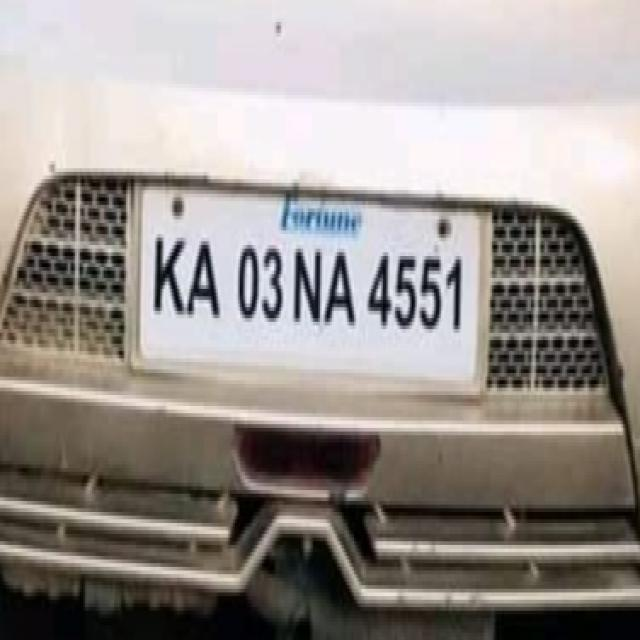0: (233, 224, 261, 329)
1: (445, 248, 468, 334)
3: (262, 240, 286, 332)
4: (364, 234, 394, 338)
5: (417, 246, 444, 336), (395, 246, 418, 334)
A: (186, 230, 222, 326), (324, 235, 357, 337)
K: (151, 230, 186, 320)
N: (288, 240, 324, 326)
